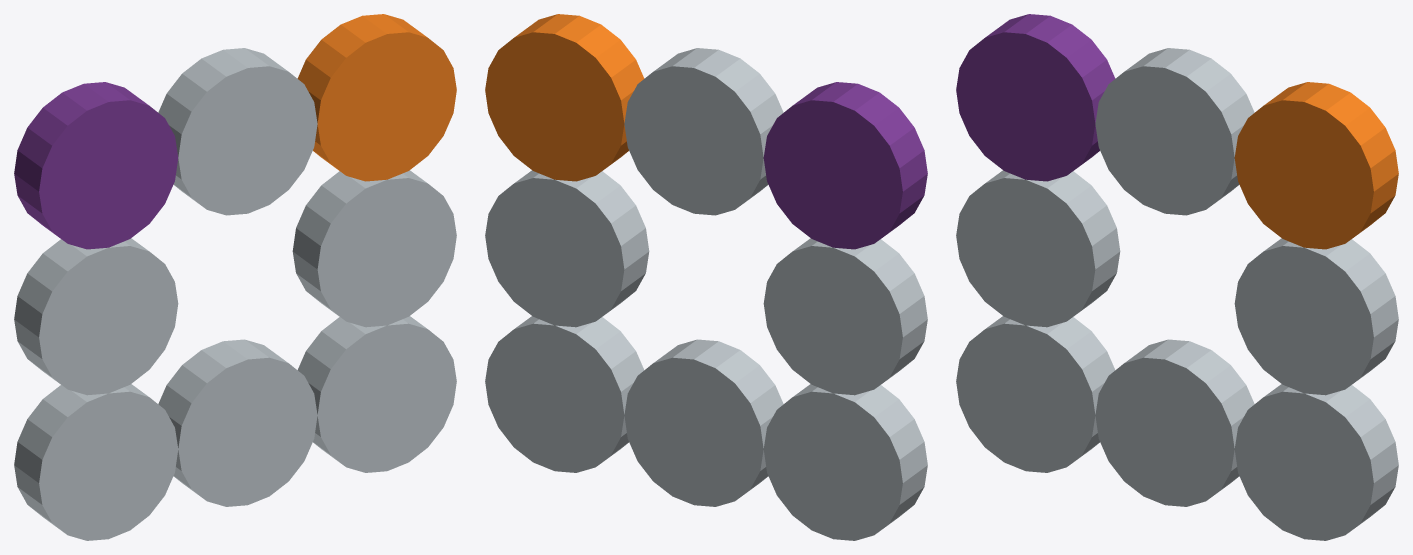
Rendered from tinker.obj.
3 views of the same model, side by side, from view 1: azimuth 30°, elevation 25°; view 2: azimuth 150°, elevation 25°; view 3: azimuth 330°, elevation 25° (orthographic).
Visible parts, largest first — view 1: group_0_12568524, group_0_8273816, group_0_16089887; view 2: group_0_12568524, group_0_8273816, group_0_16089887; view 3: group_0_12568524, group_0_16089887, group_0_8273816.
Part boxes in pixels (box(x1,y1,x2,y2)): group_0_12568524: box(14, 48, 456, 540); group_0_8273816: box(14, 82, 178, 249); group_0_16089887: box(297, 14, 456, 181); group_0_12568524: box(485, 48, 927, 540); group_0_8273816: box(763, 82, 927, 249); group_0_16089887: box(485, 14, 644, 181); group_0_12568524: box(956, 48, 1398, 540); group_0_16089887: box(1234, 82, 1398, 249); group_0_8273816: box(956, 14, 1115, 181).
Bounding box in the file's own units: 3 × 3 × 0.31.
